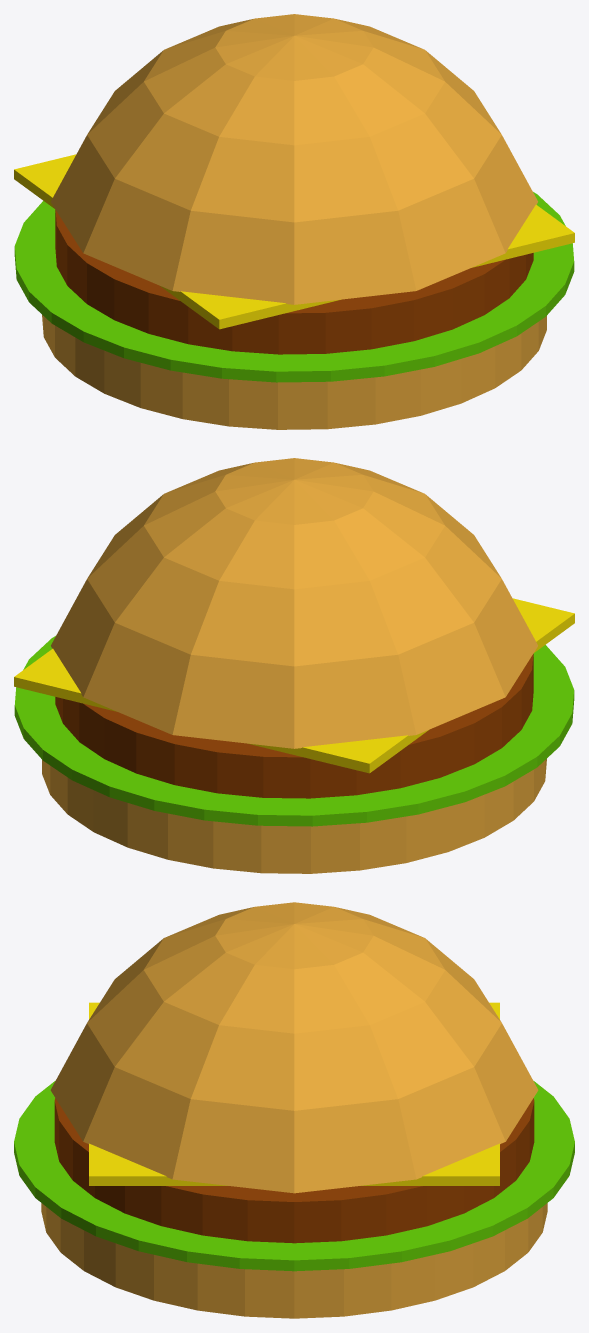
Rendered from BurgerBangor.glb.
The picture shows the model from 3 angles, top to bottom: view 1: azimuth 30°, elevation 25°; view 2: azimuth 150°, elevation 25°; view 3: azimuth 270°, elevation 25°; orthographic projection.
Visible parts, largest first — view 1: Sphere.001, Cylinder.002, Cylinder, Cylinder.001, Cube; view 2: Sphere.001, Cylinder.002, Cylinder, Cylinder.001, Cube; view 3: Sphere.001, Cylinder.002, Cylinder, Cylinder.001, Cube.
Part boxes in pixels (x1=…): Sphere.001: x1=51, y1=14, x2=537, y2=304; Cylinder.002: x1=14, y1=192, x2=574, y2=382; Cylinder: x1=42, y1=315, x2=546, y2=429; Cylinder.001: x1=55, y1=210, x2=533, y2=354; Cube: x1=14, y1=154, x2=574, y2=329; Sphere.001: x1=51, y1=458, x2=537, y2=748; Cylinder.002: x1=14, y1=636, x2=574, y2=826; Cylinder: x1=42, y1=759, x2=546, y2=873; Cylinder.001: x1=55, y1=654, x2=533, y2=798; Cube: x1=14, y1=598, x2=574, y2=773; Sphere.001: x1=50, y1=902, x2=538, y2=1193; Cylinder.002: x1=14, y1=1081, x2=574, y2=1271; Cylinder: x1=41, y1=1203, x2=547, y2=1318; Cylinder.001: x1=54, y1=1098, x2=534, y2=1243; Cube: x1=89, y1=1002, x2=499, y2=1185.
Bounding box in the file's own units: 0.199 × 0.1126 × 0.199.
